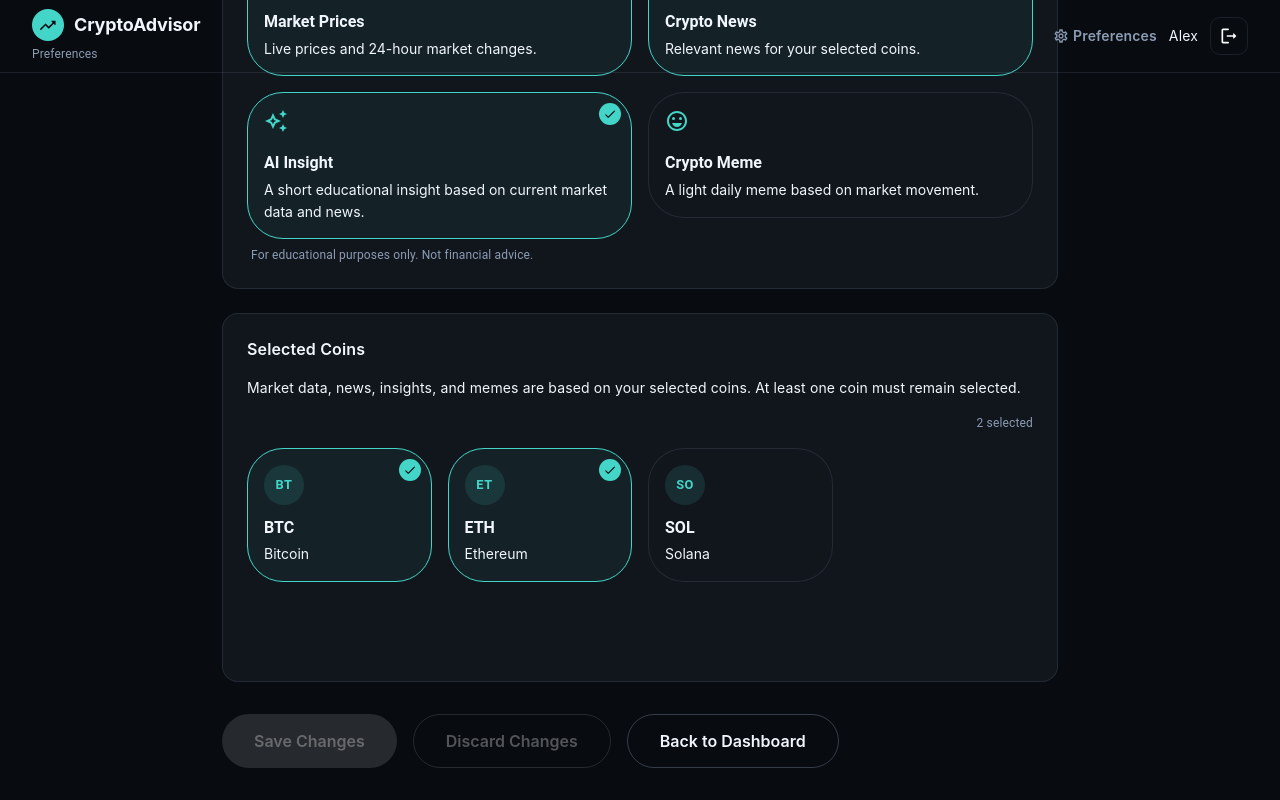
it: preferences page › navigates back to the dashboard
(page scrolled)
Expected: the button "Save Changes" is shown, x1=222 y1=714 x2=397 y2=768
Click the button "Back to Dashboard" at {"x": 733, "y": 741}, box x1=627 y1=714 x2=839 y2=768
(page scrolled)
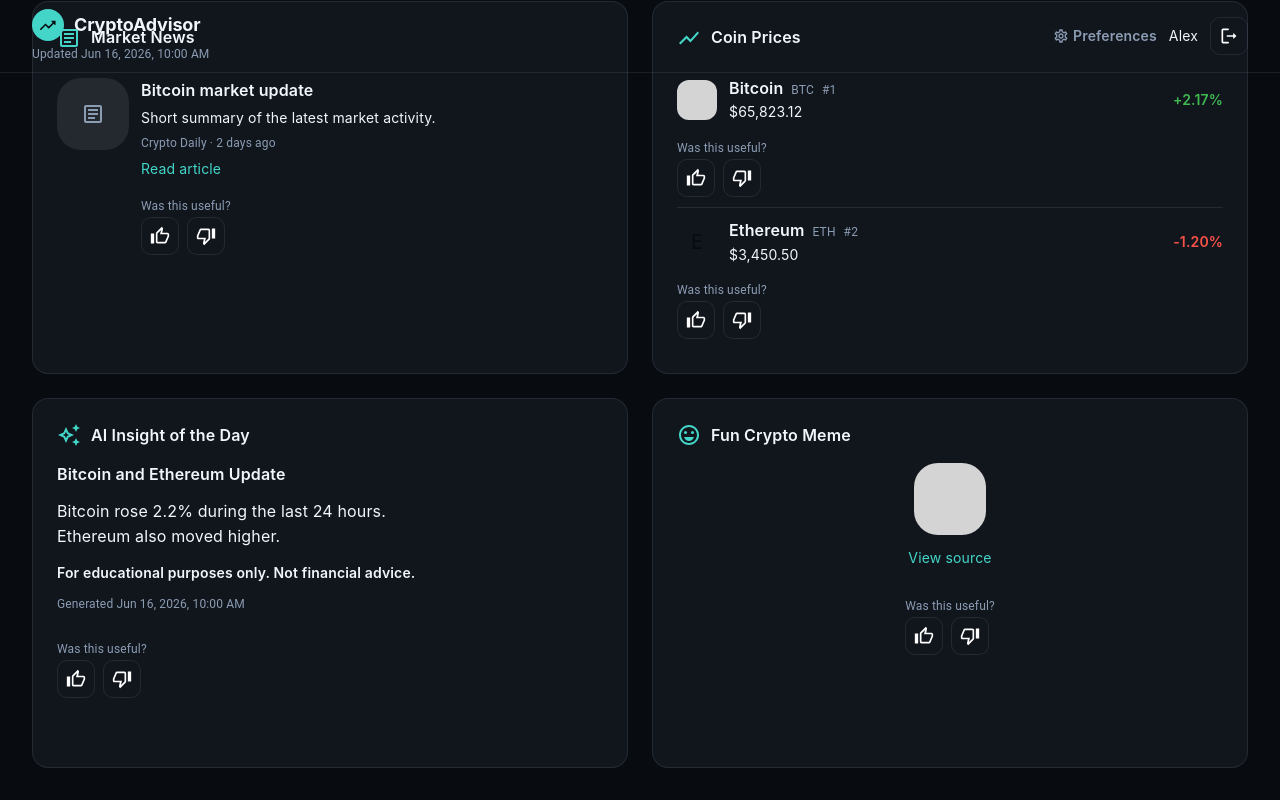
Expected: the heading "Market News" is shown, x1=91 y1=26 x2=195 y2=50
